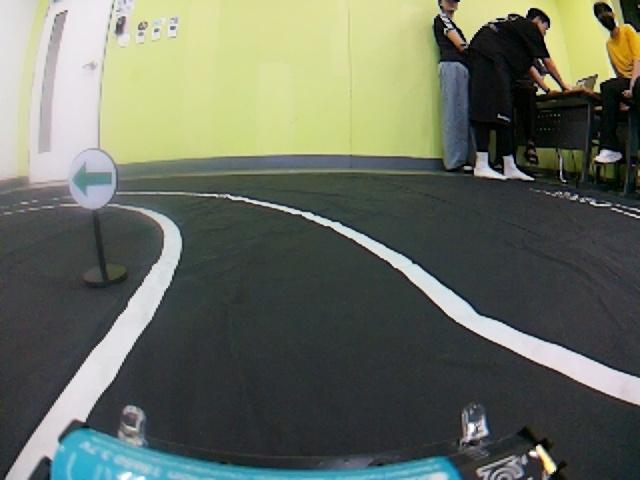sign_left: (66, 147, 118, 210)
straight: (0, 237, 637, 478)
